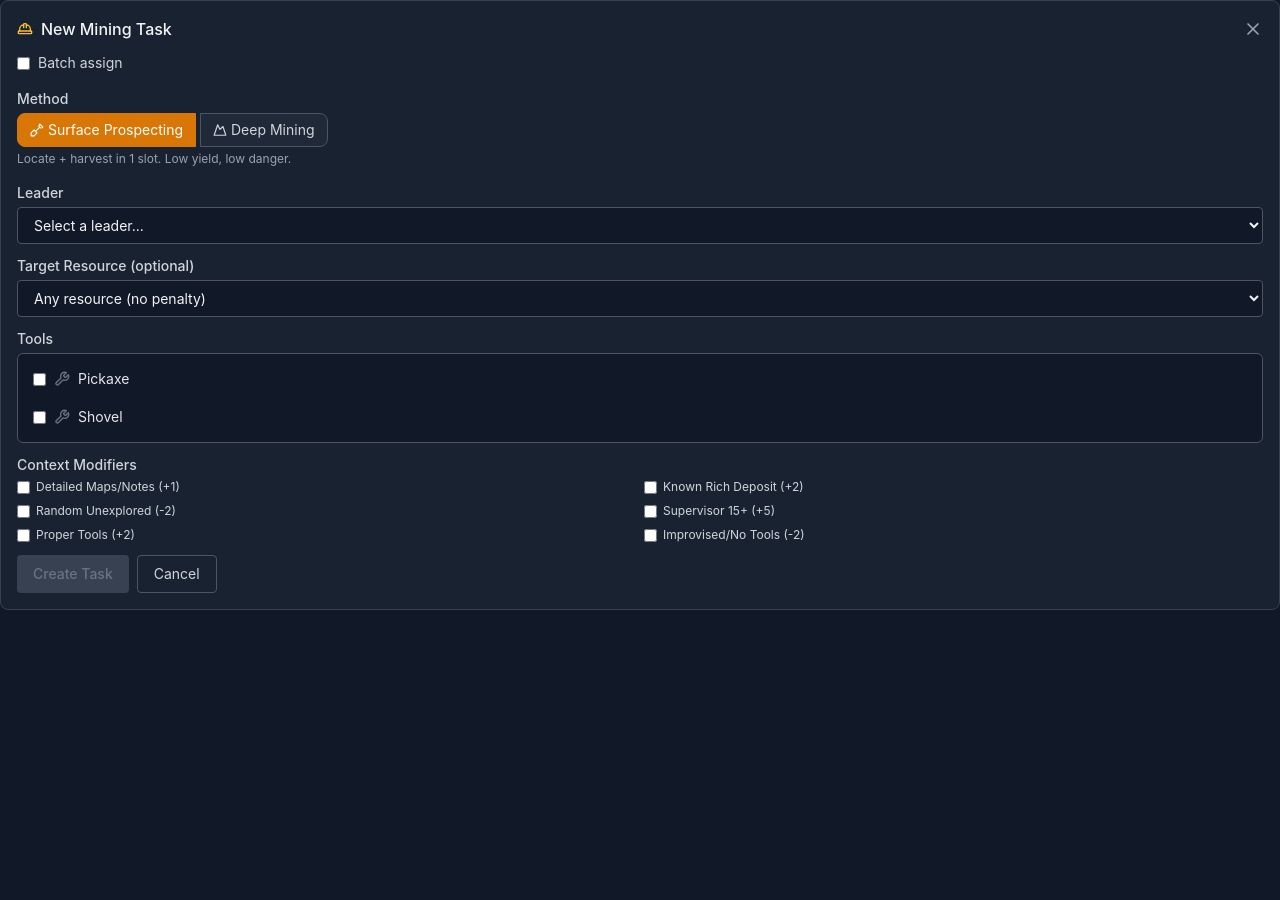
Test case: MiningTaskForm › form validation › submit button is enabled after selecting a leader for Surface Prospecting
Select "Miner Bob" in the dropdown labelled "Leader". click: coordinates (640, 226)
box: x1=17 y1=207 x2=1263 y2=244
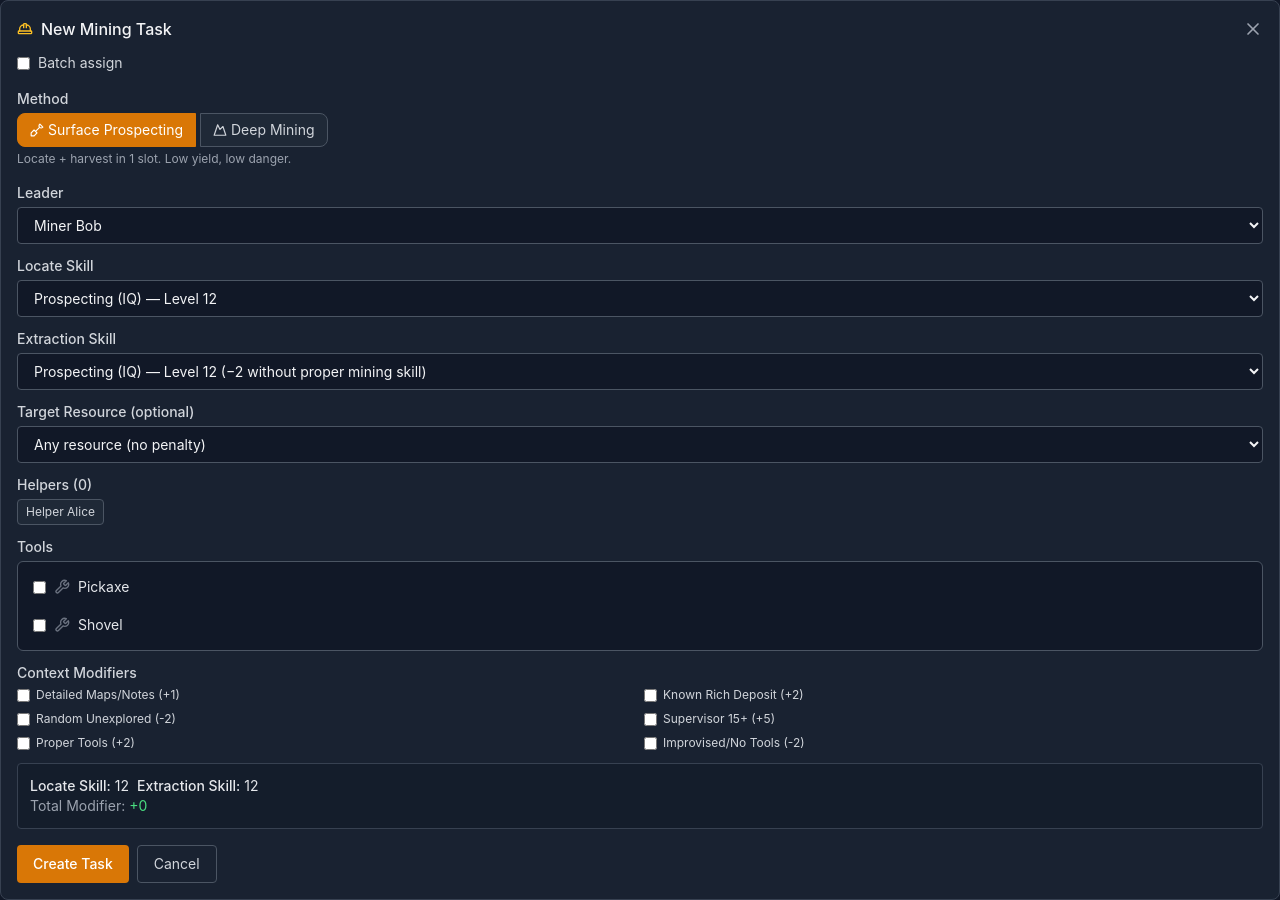
Expected: the button "Create Task" is enabled, x1=17 y1=845 x2=129 y2=883
